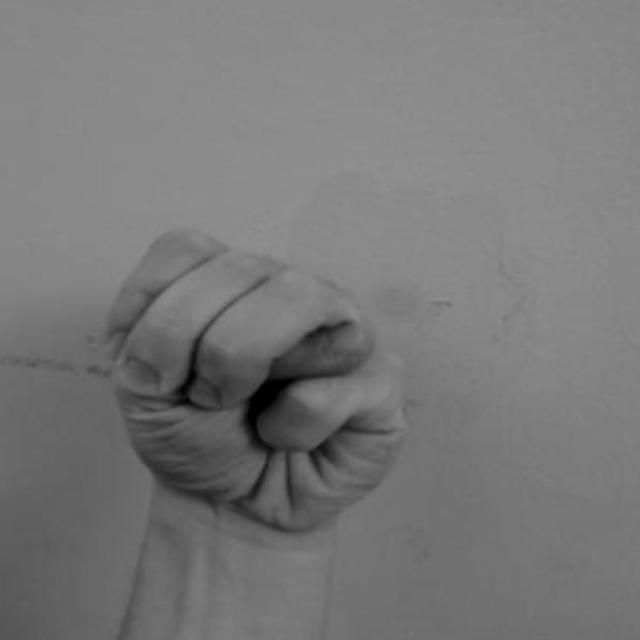M: (91, 213, 417, 533)
